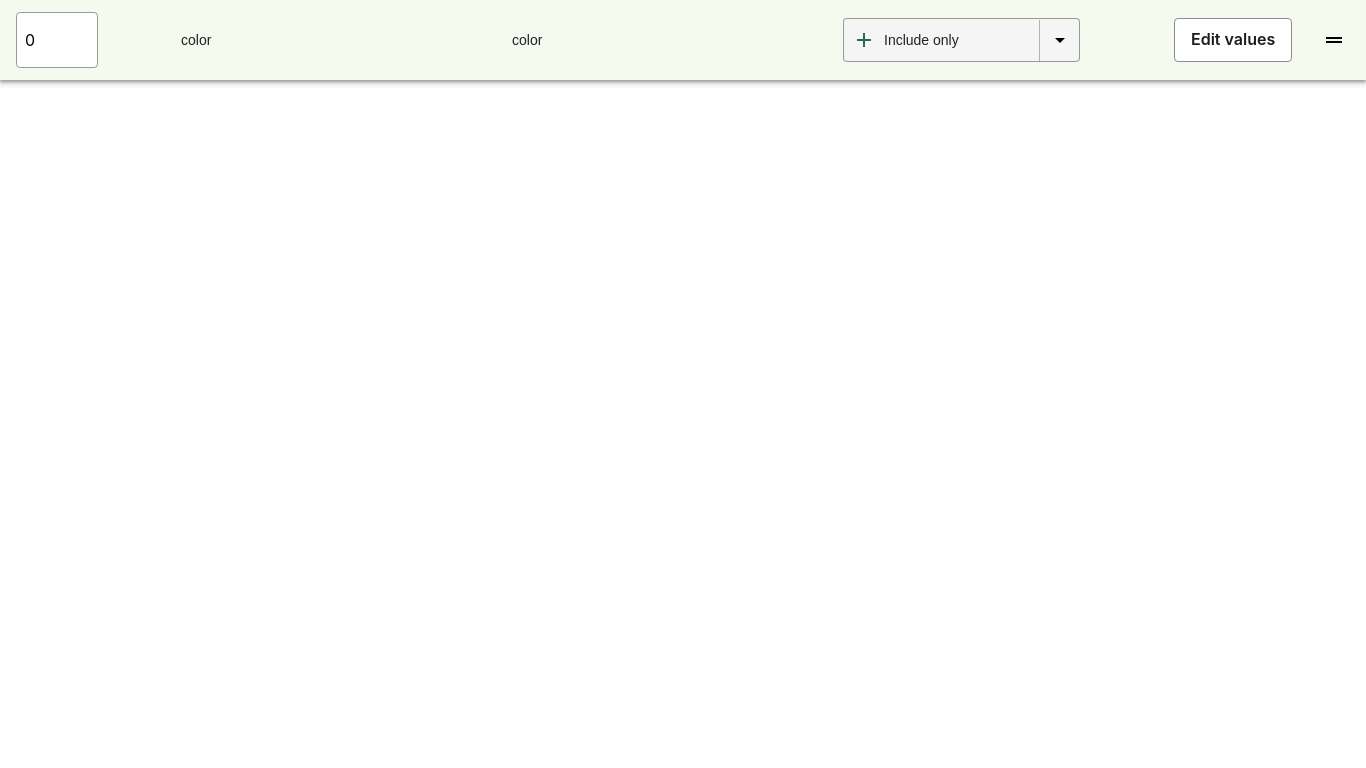
FacetRow › should show unsaved changes modal when hasChanges is true and edit values is clicked
Step 1. Click the link "Edit values" → (1233, 40), box [1174, 18, 1292, 62]
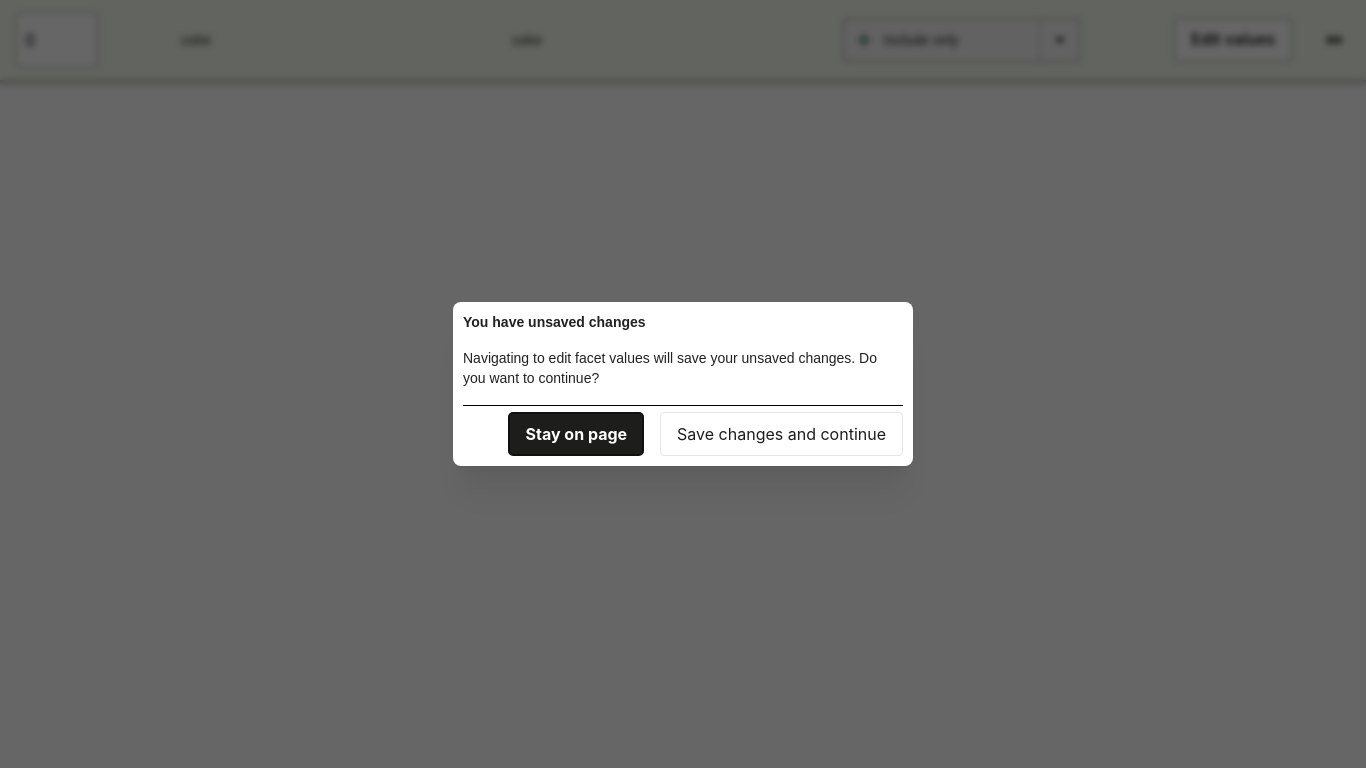
Expected: the heading "You have unsaved changes" is shown, [463, 314, 646, 330]
